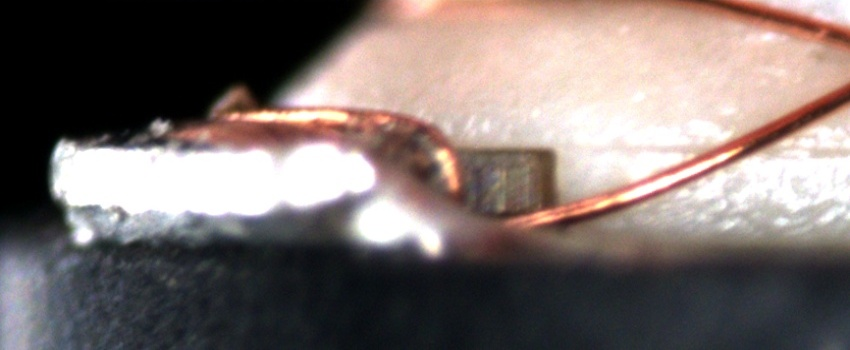DL: (568, 112, 849, 176)
TE: (216, 95, 481, 214)
